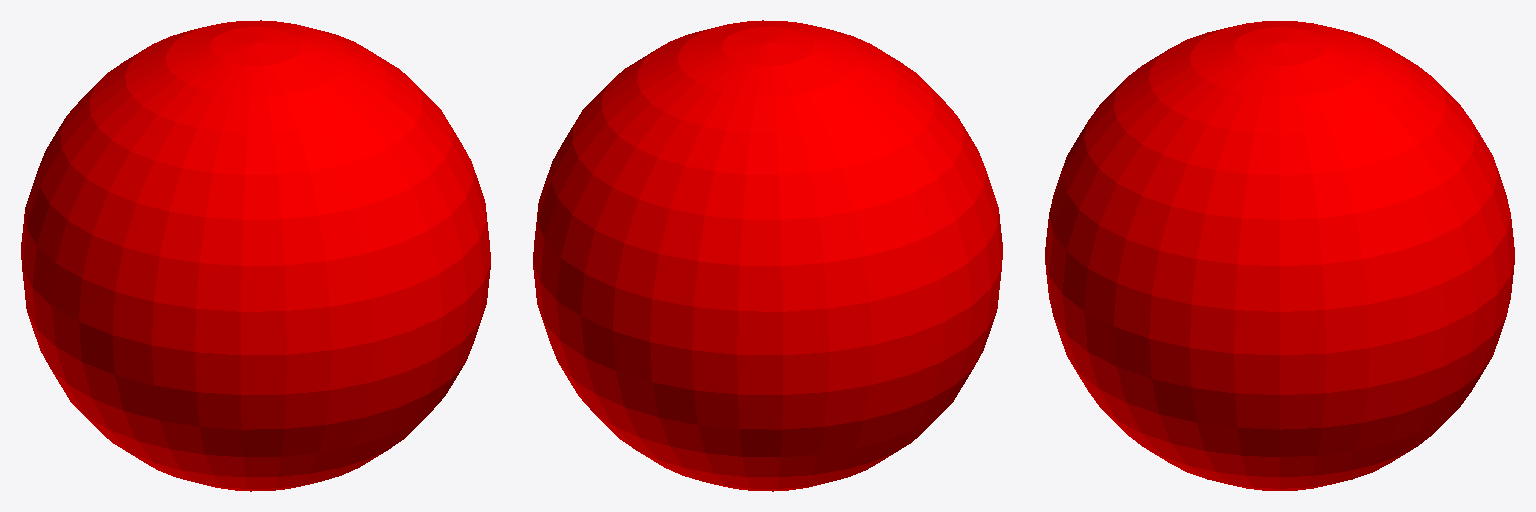
URDF robot description (vx300s):
<?xml version="1.0" ?>
<!-- =================================================================================== -->
<!-- |    This document was autogenerated by xacro from vx300s.urdf.xacro              | -->
<!-- |    EDITING THIS FILE BY HAND IS NOT RECOMMENDED                                 | -->
<!-- =================================================================================== -->
<robot name="vx300s">
  <material name="interbotix_black">
    <texture filename="package://interbotix_xsarm_descriptions/meshes/interbotix_black.png"/>
  </material>
  <link name="base_link">
    <visual>
      <origin rpy="0 0 1.5707963267948966" xyz="0 0 0"/>
      <geometry>
        <mesh filename="./meshes/viper/vx300s_1_base.stl" scale="0.001 0.001 0.001"/>
      </geometry>
      <material name="interbotix_black"/>
    </visual>
    <inertial>
      <origin rpy="0 0 1.5707963267948966" xyz="-0.0534774000 -0.0005625750 0.0205961000"/>
      <mass value="0.969034"/>
      <inertia ixx="0.0060240000" ixy="0.0000471300" ixz="0.0000038510" iyy="0.0017000000" iyz="-0.0000841500" izz="0.0071620000"/>
    </inertial>
  </link>
  <joint name="waist" type="revolute">
    <axis xyz="0 0 1"/>
    <limit effort="10" lower="-3.141582653589793" upper="3.141582653589793" velocity="3.141592653589793"/>
    <origin rpy="0 0 0" xyz="0 0 0.079"/>
    <parent link="base_link"/>
    <child link="shoulder_link"/>
    <dynamics friction="0.1"/>
  </joint>
  <link name="shoulder_link">
    <visual>
      <origin rpy="0 0 1.5707963267948966" xyz="0 0 -0.003"/>
      <geometry>
        <mesh filename="./meshes/viper/vx300s_2_shoulder.stl" scale="0.001 0.001 0.001"/>
      </geometry>
      <material name="interbotix_black"/>
    </visual>
    <inertial>
      <origin rpy="0 0 1.5707963267948966" xyz="0.0002592330 -0.0000033552 0.0116129000"/>
      <mass value="0.798614"/>
      <inertia ixx="0.0009388000" ixy="-0.0000000010" ixz="-0.0000000191" iyy="0.0011380000" iyz="0.0000059568" izz="0.0012010000"/>
    </inertial>
  </link>
  <joint name="shoulder" type="revolute">
    <axis xyz="0 1 0"/>
    <limit effort="20" lower="-1.8500490071139892" upper="1.2566370614359172" velocity="3.141592653589793"/>
    <origin rpy="0 0 0" xyz="0 0 0.04805"/>
    <parent link="shoulder_link"/>
    <child link="upper_arm_link"/>
    <dynamics friction="0.1"/>
  </joint>
  <link name="upper_arm_link">
    <visual>
      <origin rpy="0 0 1.5707963267948966" xyz="0 0 0"/>
      <geometry>
        <mesh filename="./meshes/viper/vx300s_3_upper_arm.stl" scale="0.001 0.001 0.001"/>
      </geometry>
      <material name="interbotix_black"/>
    </visual>
    <inertial>
      <origin rpy="0 0 1.5707963267948966" xyz="0.0206949000 0.0000000004 0.2264590000"/>
      <mass value="0.792592"/>
      <inertia ixx="0.0089250000" ixy="0.0000000000" ixz="0.0000000000" iyy="0.0089370000" iyz="0.0012010000" izz="0.0009357000"/>
    </inertial>
  </link>
  <joint name="elbow" type="revolute">
    <axis xyz="0 1 0"/>
    <limit effort="15" lower="-1.7627825445142729" upper="1.6057029118347832" velocity="3.141592653589793"/>
    <origin rpy="0 0 0" xyz="0.05955 0 0.3"/>
    <parent link="upper_arm_link"/>
    <child link="upper_forearm_link"/>
    <dynamics friction="0.1"/>
  </joint>
  <link name="upper_forearm_link">
    <visual>
      <origin rpy="0 0 0" xyz="0 0 0"/>
      <geometry>
        <mesh filename="./meshes/viper/vx300s_4_upper_forearm.stl" scale="0.001 0.001 0.001"/>
      </geometry>
      <material name="interbotix_black"/>
    </visual>
    <inertial>
      <origin rpy="0 0 0" xyz="0.105723 0 0"/>
      <mass value="0.322228"/>
      <inertia ixx="0.0001524000" ixy="-0.0000188300" ixz="-0.0000084064" iyy="0.0013420000" iyz="0.0000012564" izz="0.0014410000"/>
    </inertial>
  </link>
  <joint name="forearm_roll" type="revolute">
    <axis xyz="1 0 0"/>
    <limit effort="2" lower="-3.141582653589793" upper="3.141582653589793" velocity="3.141592653589793"/>
    <origin rpy="0 0 0" xyz="0.2 0 0"/>
    <parent link="upper_forearm_link"/>
    <child link="lower_forearm_link"/>
    <dynamics friction="0.1"/>
  </joint>
  <link name="lower_forearm_link">
    <visual>
      <origin rpy="3.141592653589793 0 0" xyz="0 0 0"/>
      <geometry>
        <mesh filename="./meshes/viper/vx300s_5_lower_forearm.stl" scale="0.001 0.001 0.001"/>
      </geometry>
      <material name="interbotix_black"/>
    </visual>
    <inertial>
      <origin rpy="3.141592653589793 0 0" xyz="0.0513477000 0.0068046200 0"/>
      <mass value="0.414823"/>
      <inertia ixx="0.0001753000" ixy="-0.0000852800" ixz="0" iyy="0.0005269000" iyz="0" izz="0.0005911000"/>
    </inertial>
  </link>
  <joint name="wrist_angle" type="revolute">
    <axis xyz="0 1 0"/>
    <limit effort="5" lower="-1.8675022996339325" upper="2.234021442552742" velocity="3.141592653589793"/>
    <origin rpy="0 0 0" xyz="0.1 0 0"/>
    <parent link="lower_forearm_link"/>
    <child link="wrist_link"/>
    <dynamics friction="0.1"/>
  </joint>
  <link name="wrist_link">
    <visual>
      <origin rpy="0 0 1.5707963267948966" xyz="0 0 0"/>
      <geometry>
        <mesh filename="./meshes/viper/vx300s_6_wrist.stl" scale="0.001 0.001 0.001"/>
      </geometry>
      <material name="interbotix_black"/>
    </visual>
    <inertial>
      <origin rpy="0 0 1.5707963267948966" xyz="0.0467430000 -0.0000076652 0.0105650000"/>
      <mass value="0.115395"/>
      <inertia ixx="0.0000463100" ixy="0.0000000195" ixz="0.0000000023" iyy="0.0000451400" iyz="0.0000042002" izz="0.0000527000"/>
    </inertial>
  </link>
  <joint name="wrist_rotate" type="revolute">
    <axis xyz="1 0 0"/>
    <limit effort="1" lower="-3.141582653589793" upper="3.141582653589793" velocity="3.141592653589793"/>
    <origin rpy="0 0 0" xyz="0.069744 0 0"/>
    <parent link="wrist_link"/>
    <child link="gripper_link"/>
    <dynamics friction="0.1"/>
  </joint>
  <link name="gripper_link">
    <visual>
      <origin rpy="0 0 1.5707963267948966" xyz="-0.02 0 0"/>
      <geometry>
        <mesh filename="./meshes/viper/vx300s_7_gripper.stl" scale="0.001 0.001 0.001"/>
      </geometry>
      <material name="interbotix_black"/>
    </visual>
    <inertial>
      <origin rpy="0 0 1.5707963267948966" xyz="0.0230010000 0.0000000000 0.0115230000"/>
      <mass value="0.097666"/>
      <inertia ixx="0.0000326800" ixy="0.0000000000" ixz="0.0000000000" iyy="0.0000243600" iyz="0.0000002785" izz="0.0000211900"/>
    </inertial>
  </link>
  <joint name="ee_arm" type="fixed">
    <axis xyz="1 0 0"/>
    <origin rpy="0 0 0" xyz="0.042825 0 0"/>
    <parent link="gripper_link"/>
    <child link="ee_arm_link"/>
  </joint>
  <link name="ee_arm_link">
    <inertial>
      <mass value="0.001"/>
      <inertia ixx="0.0001" ixy="0" ixz="0" iyy="0.0001" iyz="0" izz="0.0001"/>
    </inertial>
  </link>
  <joint name="gripper" type="fixed">
    <axis xyz="1 0 0"/>
    <limit effort="1" velocity="3.141592653589793"/>
    <origin rpy="0 0 0" xyz="0.005675 0 0"/>
    <parent link="ee_arm_link"/>
    <child link="gripper_prop_link"/>
    <dynamics friction="0.1"/>
  </joint>
  <link name="gripper_prop_link">
    <visual>
      <origin rpy="0 0 1.5707963267948966" xyz="-0.0685 0 0"/>
      <geometry>
        <mesh filename="./meshes/viper/vx300s_8_gripper_prop.stl" scale="0.001 0.001 0.001"/>
      </geometry>
      <material name="interbotix_black"/>
    </visual>
    <inertial>
      <origin rpy="0 0 1.5707963267948966" xyz="0.0023780000 0.0000000285 0.0000000000"/>
      <mass value="0.008009"/>
      <inertia ixx="0.0000020386" ixy="0.0000000000" ixz="0.0000006559" iyy="0.0000042979" iyz="0.0000000000" izz="0.0000023796"/>
    </inertial>
  </link>
  <!-- If the AR tag is being used, then add the AR tag mount -->
  <!-- If the gripper bar is being used, then also add the gripper bar -->
  <joint name="gripper_bar" type="fixed">
    <axis xyz="1 0 0"/>
    <origin rpy="0 0 0" xyz="0 0 0"/>
    <parent link="ee_arm_link"/>
    <child link="gripper_bar_link"/>
  </joint>
  <link name="gripper_bar_link">
    <visual>
      <origin rpy="0 0 1.5707963267948966" xyz="-0.063 0 0"/>
      <geometry>
        <mesh filename="./meshes/viper/vx300s_9_gripper_bar.stl" scale="0.001 0.001 0.001"/>
      </geometry>
      <material name="interbotix_black"/>
    </visual>
    <inertial>
      <origin rpy="0 0 1.5707963267948966" xyz="0.0067940000 -0.0000004272 -0.0007760000"/>
      <mass value="0.150986"/>
      <inertia ixx="0.0000789500" ixy="-0.0000000012" ixz="0.0000001341" iyy="0.0003283000" iyz="0.0000017465" izz="0.0003095000"/>
    </inertial>
  </link>
  <joint name="ee_bar" type="fixed">
    <axis xyz="1 0 0"/>
    <origin rpy="0 0 0" xyz="0.025875 0 0"/>
    <parent link="gripper_bar_link"/>
    <child link="fingers_link"/>
  </joint>
  <link name="fingers_link">
    <inertial>
      <mass value="0.001"/>
      <inertia ixx="0.0001" ixy="0" ixz="0" iyy="0.0001" iyz="0" izz="0.0001"/>
    </inertial>
  </link>
  <!-- If the gripper fingers are being used, add those as well -->
  <joint name="left_finger" type="fixed">
    <axis xyz="0 1 0"/>
    <limit effort="5" lower="0.021" upper="0.057" velocity="1"/>
    <origin rpy="0 0 0" xyz="0 0 0"/>
    <parent link="fingers_link"/>
    <child link="left_finger_link"/>
    <dynamics friction="0.1"/>
  </joint>
  <link name="left_finger_link">
    <visual>
      <origin rpy="1.5707963267948966 -3.141592653589793 1.5707963267948966" xyz="-0.0404 -0.0575 0"/>
      <geometry>
        <mesh filename="./meshes/viper/vx300s_10_gripper_finger.stl" scale="0.001 0.001 0.001"/>
      </geometry>
      <material name="interbotix_black"/>
    </visual>
    <inertial>
      <origin rpy="3.141592653589793 3.141592653589793 1.5707963267948966" xyz="0.0173440000 -0.0060692000 0.0000000000"/>
      <mass value="0.034796"/>
      <inertia ixx="0.0000243300" ixy="-0.0000024004" ixz="0.0000000000" iyy="0.0000125500" iyz="0.0000000000" izz="0.0000141700"/>
    </inertial>
  </link>
  <joint name="right_finger" type="fixed">
    <origin rpy="0 0 0" xyz="0 0 0"/>
    <parent link="fingers_link"/>
    <child link="right_finger_link"/>
  </joint>
  <link name="right_finger_link">
    <visual>
      <origin rpy="-1.5707963267948966 3.141592653589793 -1.5707963267948966" xyz="-0.0404 0.0575 0 "/>
      <geometry>
        <mesh filename="./meshes/viper/vx300s_10_gripper_finger.stl" scale="0.001 0.001 0.001"/>
      </geometry>
      <material name="interbotix_black"/>
    </visual>
    <inertial>
      <origin rpy="0 3.141592653589793 1.5707963267948966" xyz="0.0173440000 0.0060692000  0.0000000000"/>
      <mass value="0.034796"/>
      <inertia ixx="0.0000243300" ixy="0.0000024001" ixz="0.0000000000" iyy="0.0000125500" iyz="0.0000000000" izz="0.0000141700"/>
    </inertial>
  </link>
  <joint name="ee_gripper" type="fixed">
    <axis xyz="1 0 0"/>
    <origin rpy="0 0 0" xyz="0.0385 0 0"/>
    <parent link="fingers_link"/>
    <child link="ee_gripper_link"/>
  </joint>
  <link name="ee_gripper_link">
    <inertial>
      <mass value="0.001"/>
      <inertia ixx="0.0001" ixy="0" ixz="0" iyy="0.0001" iyz="0" izz="0.0001"/>
    </inertial>
  </link>
  <link name="ball_link">
    <visual>
      <material name="red">
        <color rgba="1 0 0 1"/>
      </material>

      <geometry>
        <sphere radius="0.005"/>
      </geometry>
    </visual>
  </link>
  <joint name="ball_joint" type="fixed">
    <origin rpy="0.0 0.0 0.0" xyz="0.046963591458332295 -0.0039262497081215915 -0.0007269458581034244" />
    <parent link="ee_gripper_link" />
    <child link="ball_link" />
  </joint>
</robot>

--- Render facts (derived) ---
Views: 3 orthographic renders of the robot side by side, from view 1: azimuth 30°, elevation 25°; view 2: azimuth 150°, elevation 25°; view 3: azimuth 270°, elevation 25°.
Robot: vx300s — 15 links, 14 joints (6 revolute, 8 fixed); root link base_link; default pose: all joints at 0.
Visible links, largest first — view 1: ball_link; view 2: ball_link; view 3: ball_link.
Link boxes in pixels (x1=…): ball_link: x1=21, y1=20, x2=490, y2=491; ball_link: x1=533, y1=20, x2=1002, y2=491; ball_link: x1=1045, y1=21, x2=1514, y2=490.
Bounding box of the posed robot: 0.01 × 0.01 × 0.01 m (x, y, z).
0 mesh visuals loaded from 10 distinct referenced files (none loaded); not drawn: 11 (reference not matched to a file when rendering).